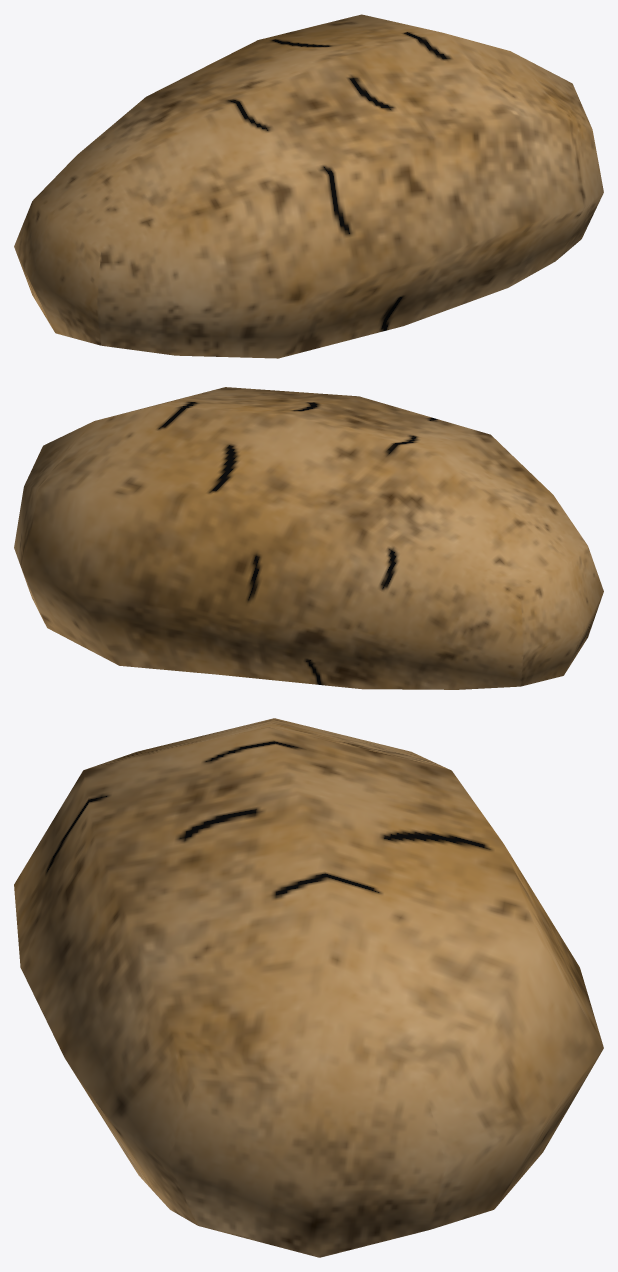
File: SM_Potato_Tuber.fbx
3 views of the same model, one above another, from view 1: azimuth 30°, elevation 25°; view 2: azimuth 150°, elevation 25°; view 3: azimuth 270°, elevation 25° (orthographic). The views are drawn at different scales.
Visible parts, largest first — view 1: SM_Potato_Tuber; view 2: SM_Potato_Tuber; view 3: SM_Potato_Tuber.
Boxes of the visible parts, x1,y1,x2,y2 form: SM_Potato_Tuber: (14,14,603,358); SM_Potato_Tuber: (14,387,603,689); SM_Potato_Tuber: (14,718,603,1257).
Size of the model in its own units: 25.43 by 10.78 by 16.84.
